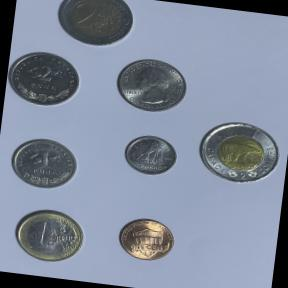1 Euro: (8, 202, 93, 270)
2 Euro: (49, 0, 143, 55)
Canda-10cent-: (116, 130, 183, 184)
Canda-2Dollar-: (188, 112, 288, 192)
Croatia-2Kune-: (4, 42, 90, 118)
US-1cent-: (110, 213, 180, 268)
US-25cent-: (107, 50, 196, 120)
